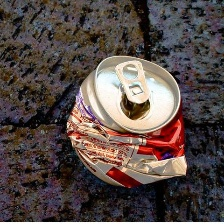can: (60, 52, 190, 192)
